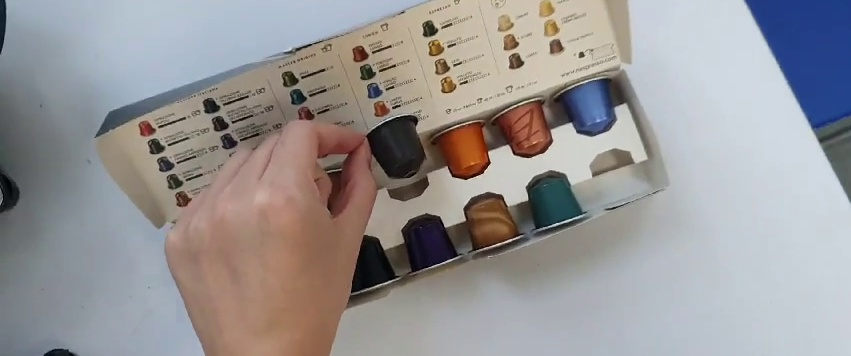capsule_4: (362, 114, 426, 181)
